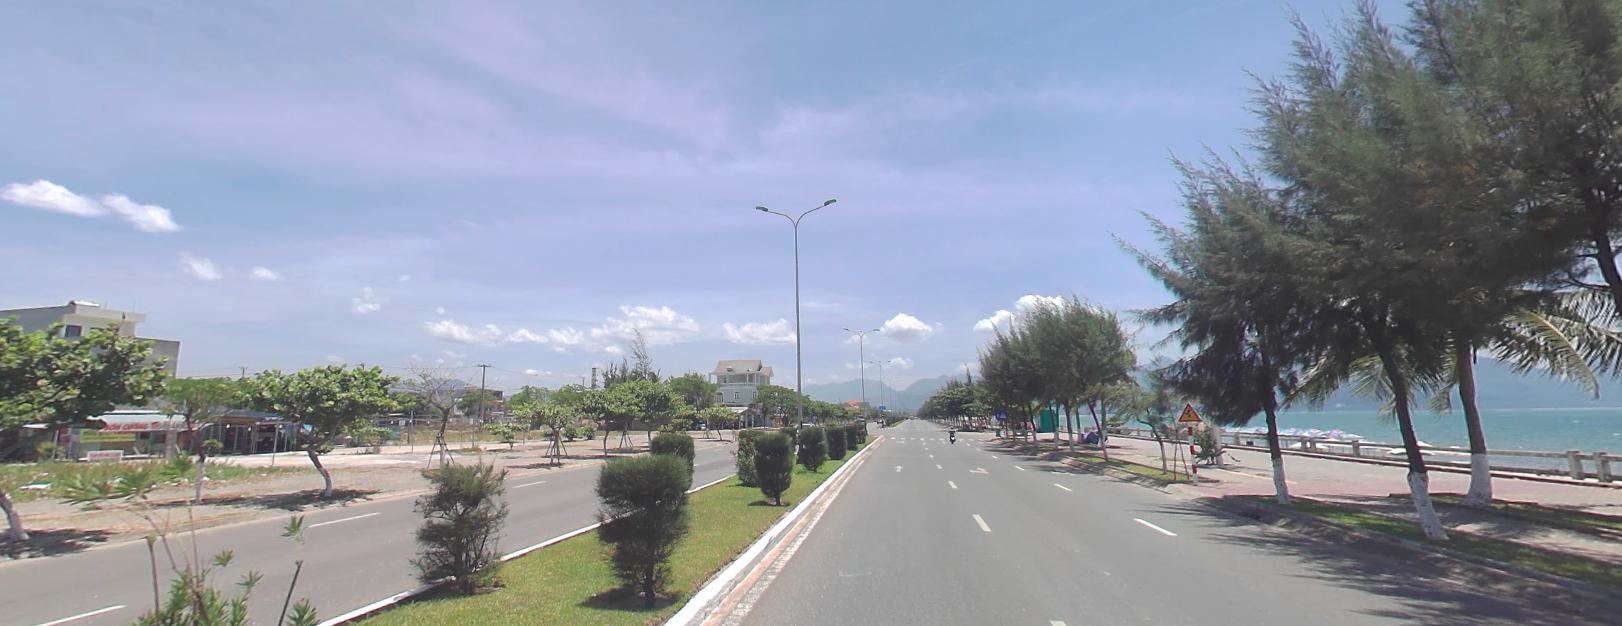Nguy hiem: (1176, 402, 1202, 422)
